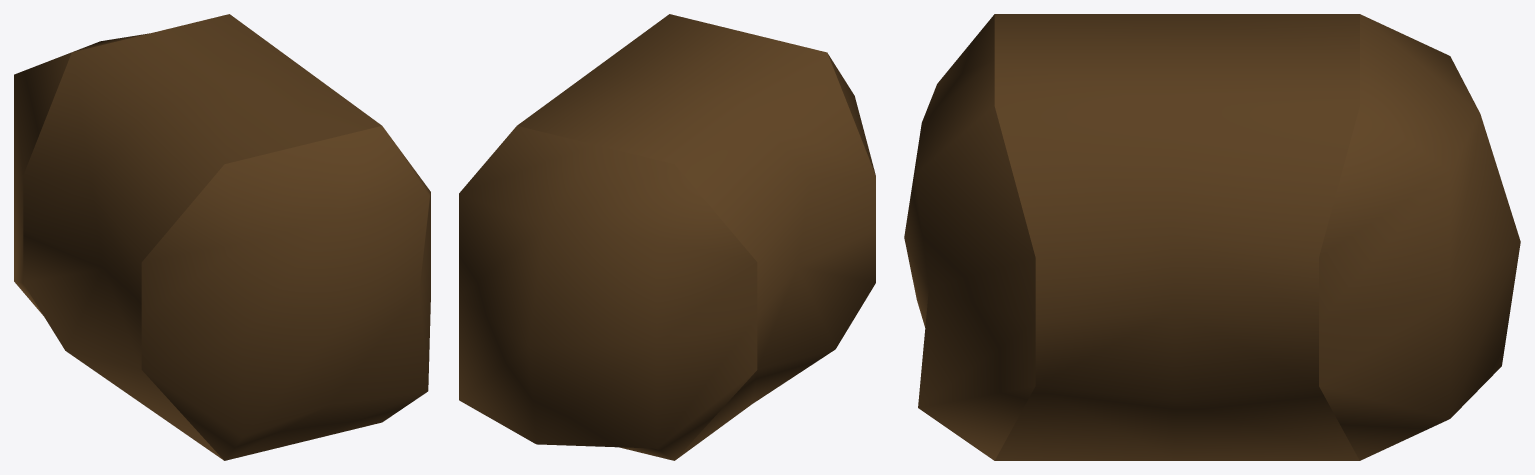
The model's file is potato.fbx.
3 views of the same model, side by side, from view 1: azimuth 30°, elevation 25°; view 2: azimuth 150°, elevation 25°; view 3: azimuth 270°, elevation 25° (orthographic). The views are drawn at different scales.
Visible parts, largest first — view 1: potato; view 2: potato; view 3: potato.
Boxes of the visible parts, <box> form: potato: <box>14,14,430,460</box>; potato: <box>459,14,875,460</box>; potato: <box>904,14,1520,460</box>.
Bounding box in the file's own units: 1.11 × 0.9799 × 1.54.
